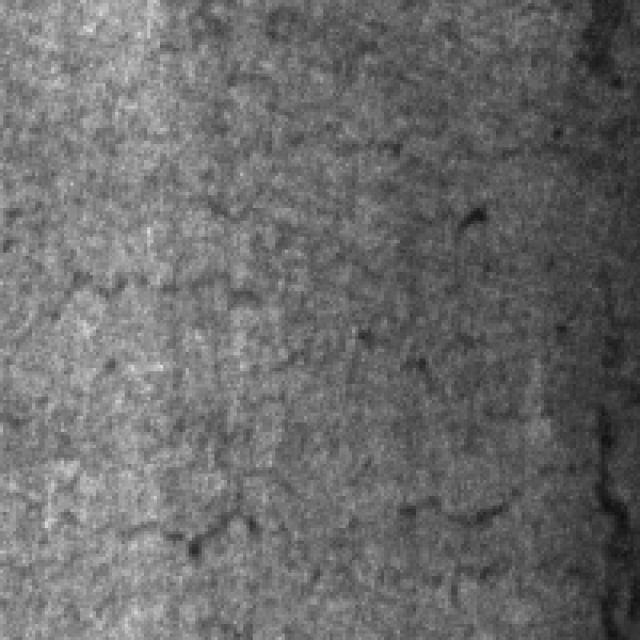crazing: (3, 262, 266, 429), (384, 346, 589, 522), (3, 454, 317, 566)
